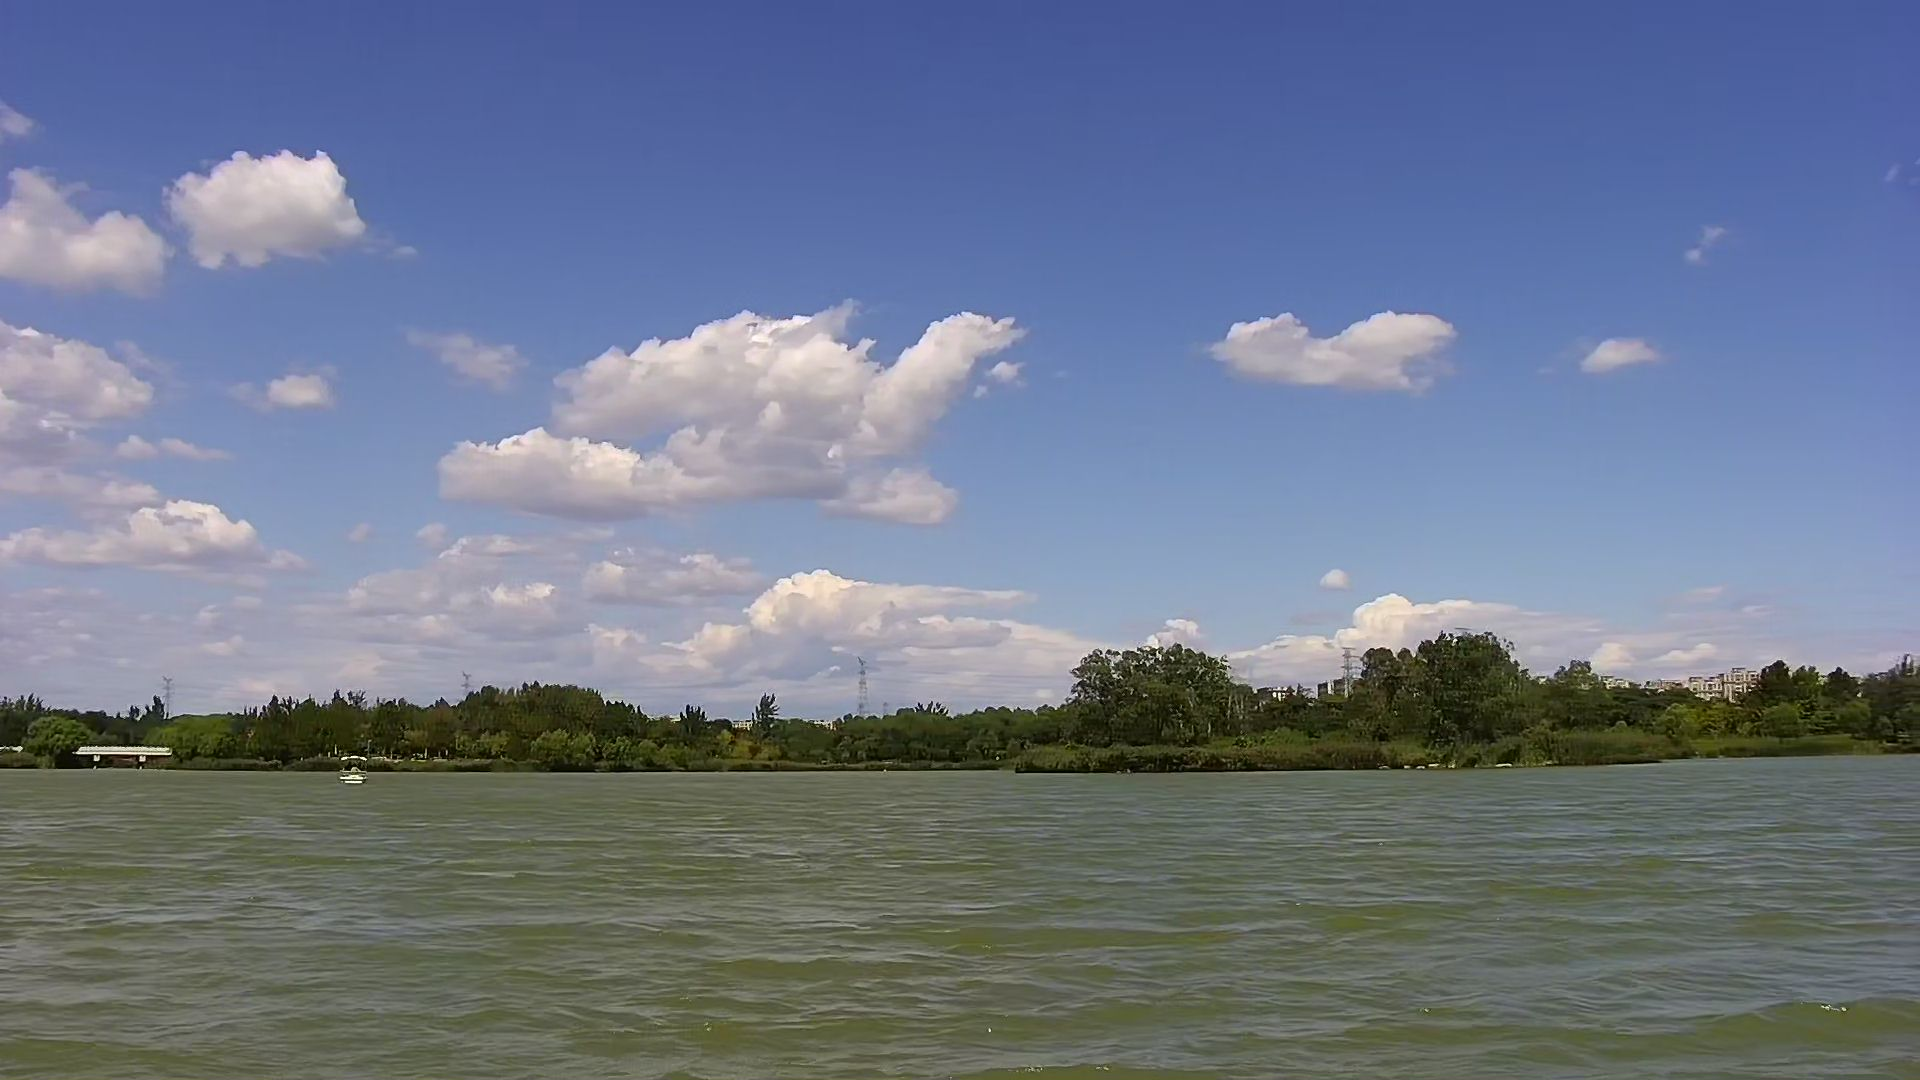boat: (338, 754, 376, 794)
bridge: (69, 736, 177, 775)
